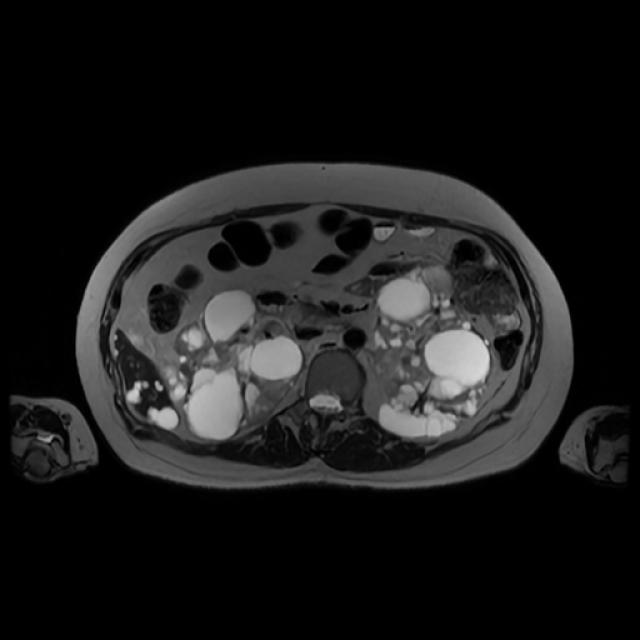sag: (167, 289, 305, 441)
sol: (365, 265, 501, 440)
